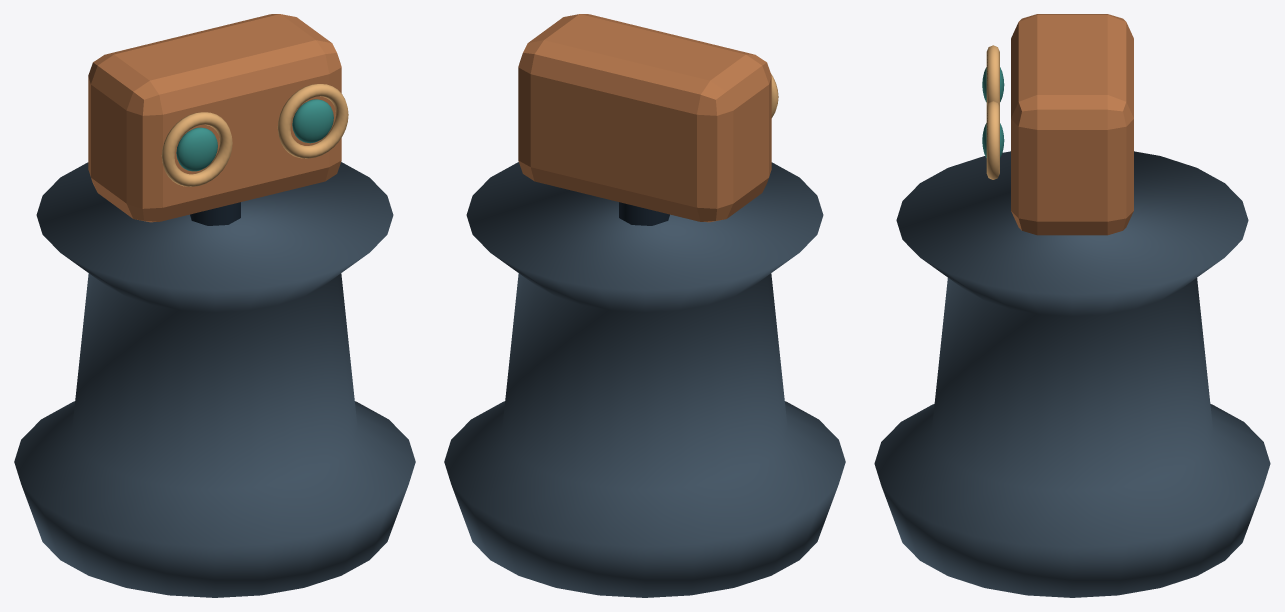
3 renders of one model, left to right at view 1: azimuth 30°, elevation 25°; view 2: azimuth 150°, elevation 25°; view 3: azimuth 270°, elevation 25°, orthographic.
Parts seen in each view (by area): view 1: PR010_stone, PR010_reader, PR010_eye_rim, PR010_eye_rim.001, PR010_eye, PR010_eye.001, PR010_neck; view 2: PR010_stone, PR010_reader, PR010_neck; view 3: PR010_stone, PR010_reader, PR010_eye_rim.001, PR010_eye_rim.
Boxes of the visible parts, x1=… form: PR010_stone: x1=14, y1=162, x2=415, y2=597; PR010_reader: x1=88, y1=14, x2=341, y2=222; PR010_eye_rim: x1=161, y1=112, x2=232, y2=186; PR010_eye_rim.001: x1=277, y1=84, x2=348, y2=158; PR010_eye: x1=176, y1=127, x2=217, y2=171; PR010_eye.001: x1=292, y1=99, x2=333, y2=143; PR010_neck: x1=190, y1=202, x2=240, y2=225; PR010_stone: x1=444, y1=162, x2=845, y2=597; PR010_reader: x1=518, y1=14, x2=771, y2=222; PR010_neck: x1=619, y1=202, x2=669, y2=225; PR010_stone: x1=874, y1=151, x2=1270, y2=597; PR010_reader: x1=1011, y1=14, x2=1133, y2=235; PR010_eye_rim.001: x1=986, y1=101, x2=999, y2=179; PR010_eye_rim: x1=986, y1=45, x2=999, y2=107.
Bounding box in the file's own units: 0.9 × 1.17 × 0.9.
